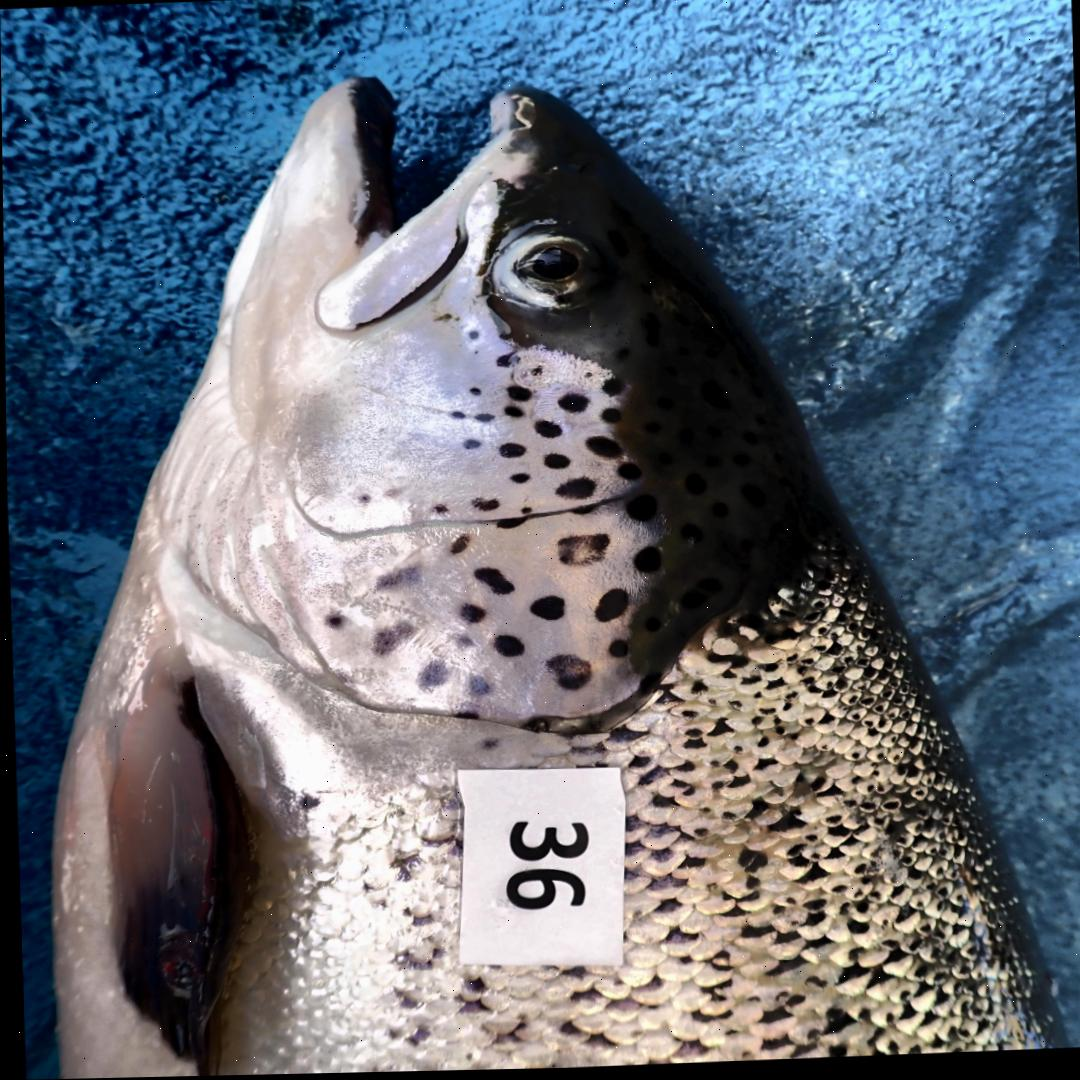spot: (555, 537, 609, 568), (545, 656, 590, 692), (370, 624, 414, 659), (591, 591, 627, 626), (373, 567, 418, 593), (472, 570, 511, 598), (415, 663, 447, 693), (624, 498, 656, 525), (583, 438, 620, 461), (529, 598, 563, 623), (440, 633, 476, 656), (554, 481, 593, 502), (491, 637, 522, 661), (632, 550, 660, 576), (557, 397, 588, 416), (456, 605, 484, 626), (598, 380, 624, 400), (532, 423, 560, 440), (615, 466, 640, 483), (448, 536, 468, 557), (470, 499, 498, 514), (496, 445, 524, 460), (467, 678, 489, 697), (541, 456, 567, 471), (606, 642, 626, 661), (495, 519, 524, 532), (506, 388, 528, 405), (567, 506, 598, 518), (494, 354, 516, 370), (324, 614, 344, 631), (599, 410, 619, 427), (447, 413, 473, 422), (462, 440, 479, 453), (503, 409, 523, 420), (470, 415, 492, 425), (447, 714, 477, 721), (354, 495, 371, 507), (508, 476, 528, 485), (527, 368, 541, 379), (431, 506, 446, 516), (465, 333, 479, 343), (466, 390, 480, 398), (519, 509, 529, 517)
